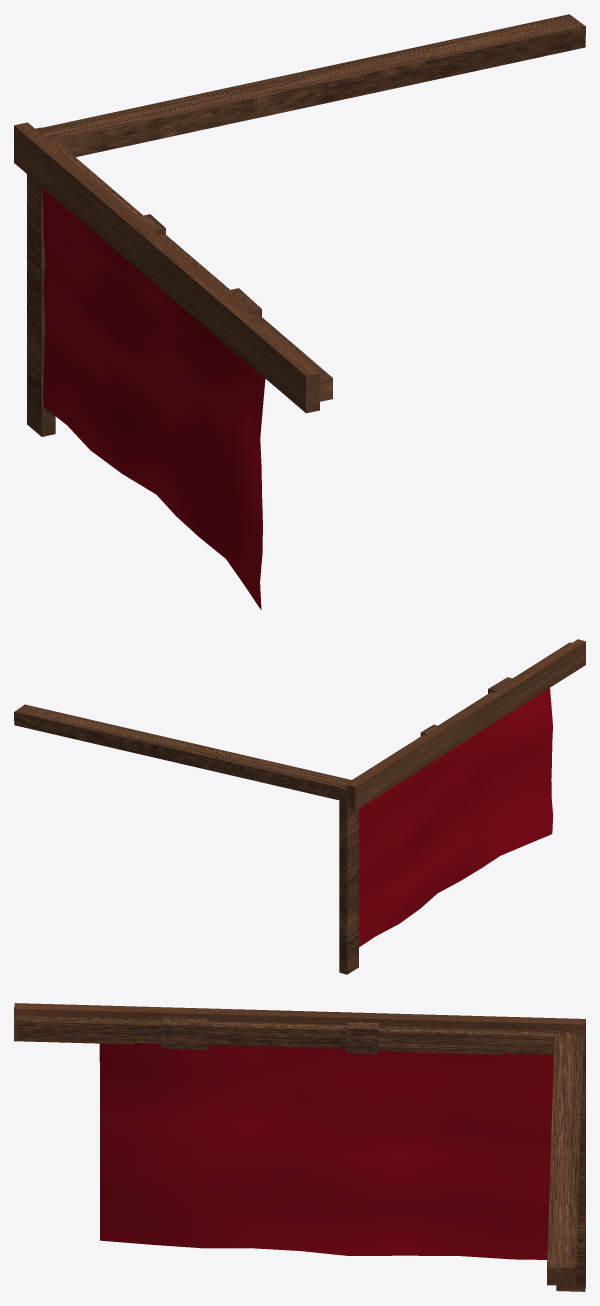
Rendered from Cortina01_Fondo.fbx.
The picture shows the model from 3 angles, top to bottom: view 1: azimuth 30°, elevation 25°; view 2: azimuth 150°, elevation 25°; view 3: azimuth 270°, elevation 25°; orthographic projection. The views are drawn at different scales.
Parts seen in each view (by area): view 1: Plane.009, Cube.010, Cube.005, Cube.006; view 2: Plane.009, Cube.010, Cube.005, Cube.006; view 3: Plane.009, Cube.006, Cube.005, Cube.010.
Part boxes in pixels (x1,y1,x2,y2): Plane.009: (42,188,265,609); Cube.010: (36,14,585,157); Cube.005: (14,122,319,413); Cube.006: (27,127,332,436); Plane.009: (359,688,553,947); Cube.010: (14,704,353,800); Cube.005: (347,639,585,810); Cube.006: (339,642,571,974); Plane.009: (99,1043,553,1259); Cube.006: (14,1016,585,1291); Cube.005: (14,1003,585,1054); Cube.010: (547,1033,583,1285).
Bounding box in the file's own units: 2480 × 1219 × 2415.
4 materials, 3 textured.
